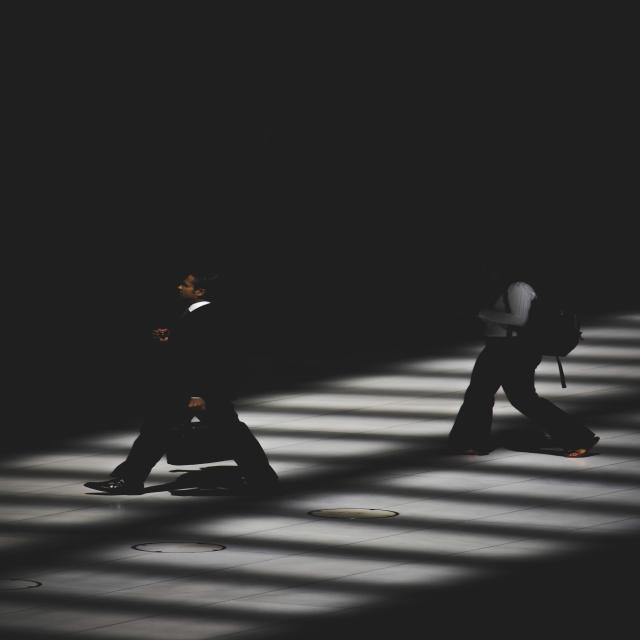adult: (79, 270, 282, 499)
